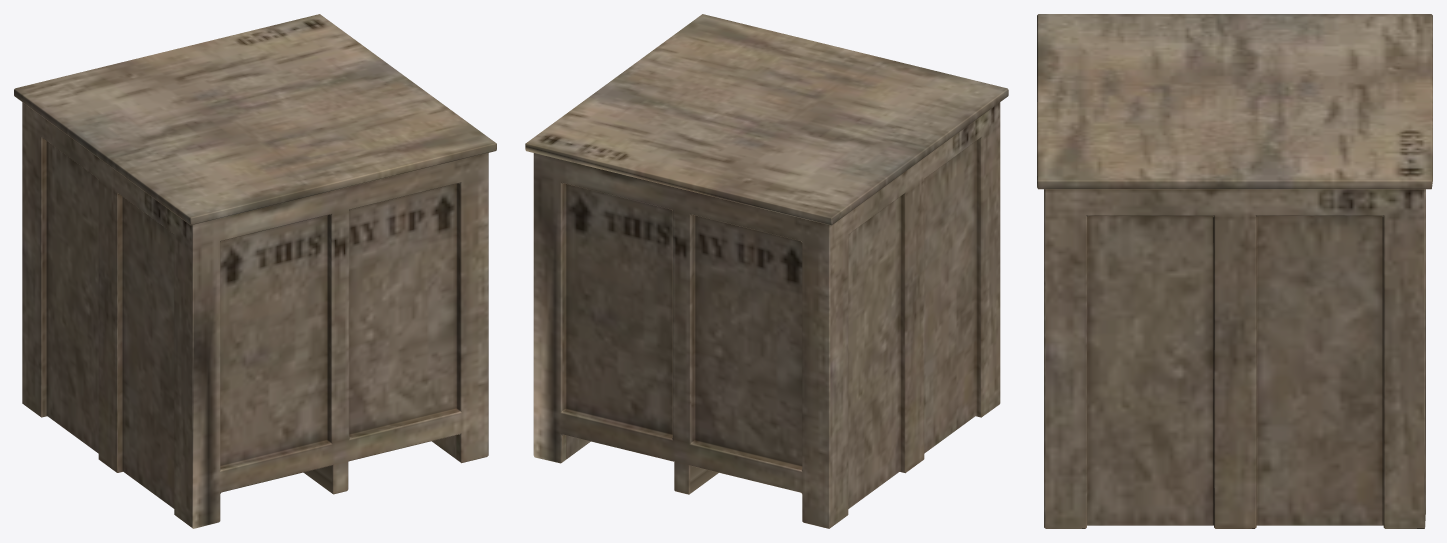
File: wooden_crate_a.glb
3 renders of one model, left to right at view 1: azimuth 30°, elevation 25°; view 2: azimuth 150°, elevation 25°; view 3: azimuth 270°, elevation 25°, orthographic. The views are drawn at different scales.
Parts seen in each view (by area): view 1: wooden_crate_a; view 2: wooden_crate_a; view 3: wooden_crate_a.
Part boxes in pixels (box(x1,y1,x2,y2)): wooden_crate_a: box(14, 14, 496, 528); wooden_crate_a: box(525, 14, 1008, 528); wooden_crate_a: box(1037, 14, 1432, 528).
Size of the model in its own units: 1.04 by 1.02 by 1.04.
Materials: 1 (1 with a texture image).
